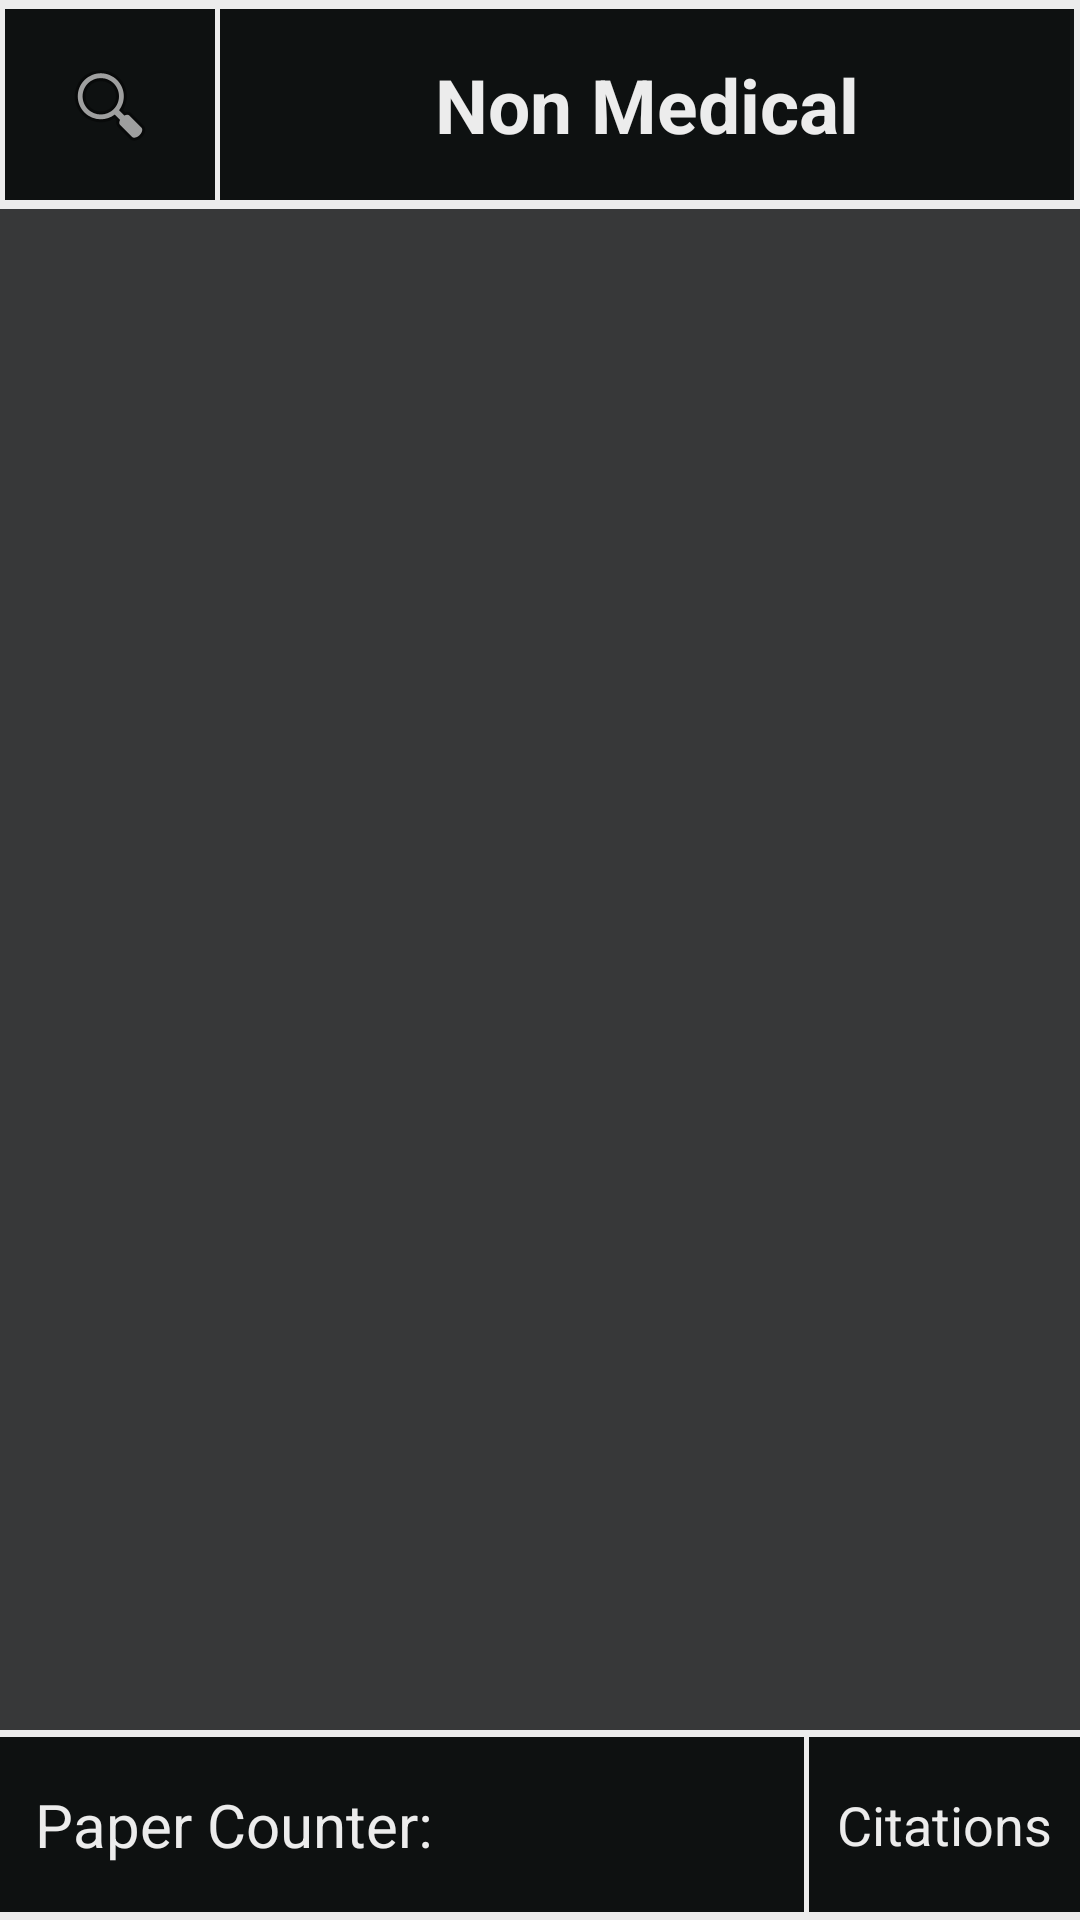

Where to tap for icons on this 1080x1920 app screen, as [x,y]:
search: [110,104]
